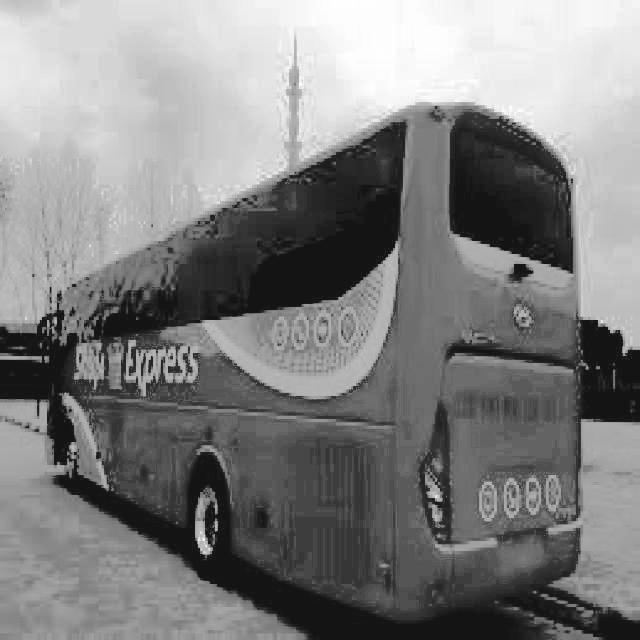Bus: (36, 68, 588, 632)
